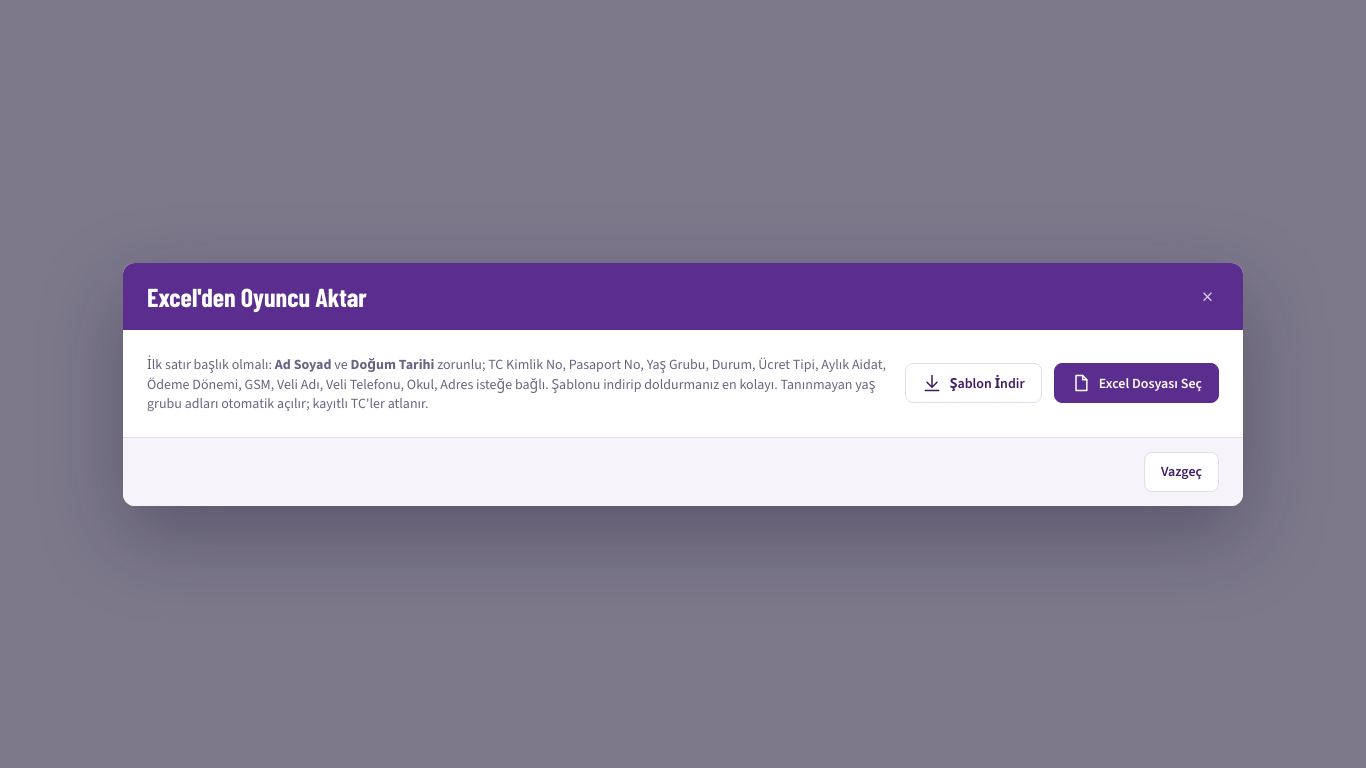
Test: Excel'den oyuncu aktarımı penceresi › hiç geçerli satır yoksa aktar düğmesi kapalı
This screenshot has width=1366, height=768.
What coordinates should you click on to do the following:
click the button "Excel Dosyası Seç"
I would click on:
 (1136, 383)
Its box is [1054,363,1219,403].
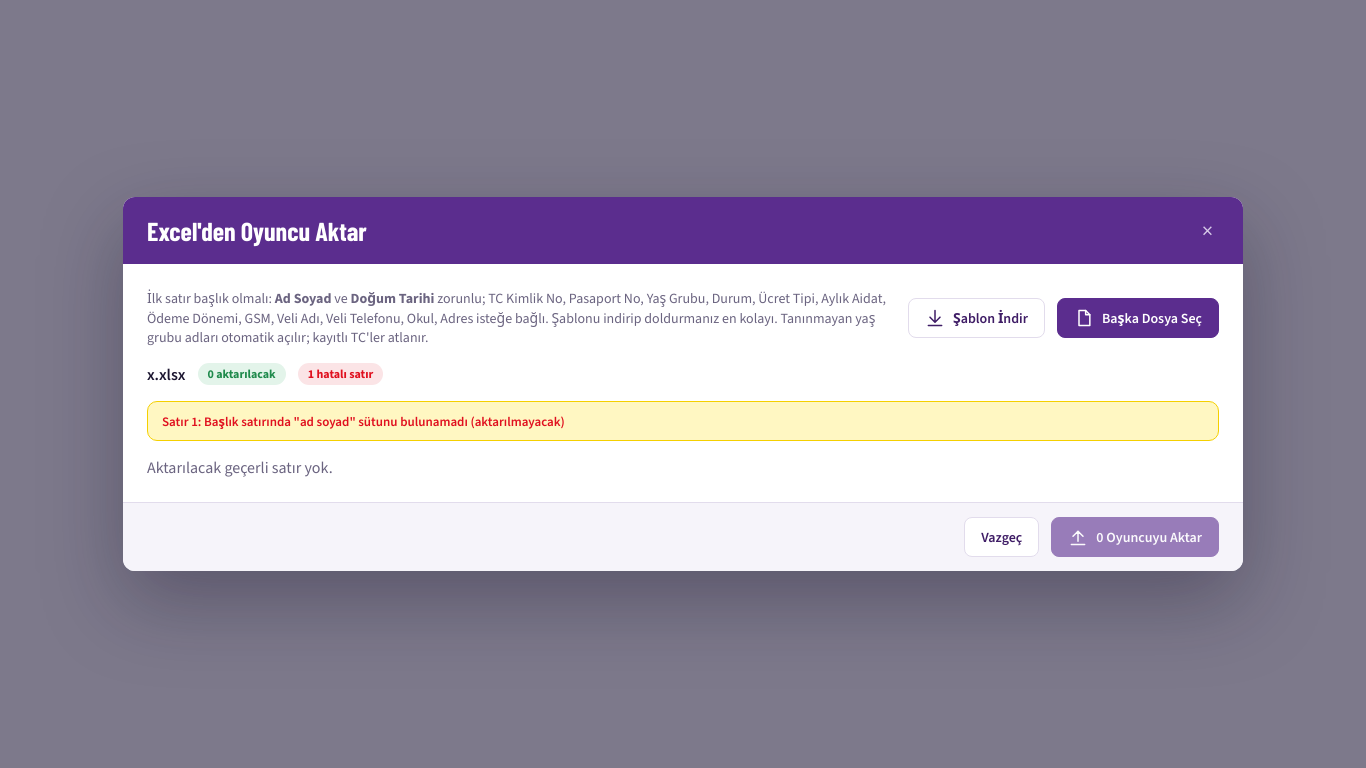
Result: the text "Aktarılacak geçerli satır yok." is shown at [147,457,333,478]
Result: the button "0 Oyuncuyu Aktar" is disabled at [1051,517,1219,557]
